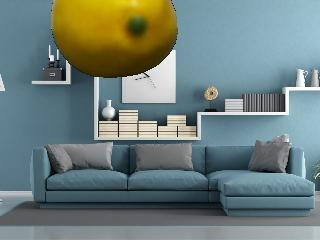lemon: (51, 0, 179, 79)
